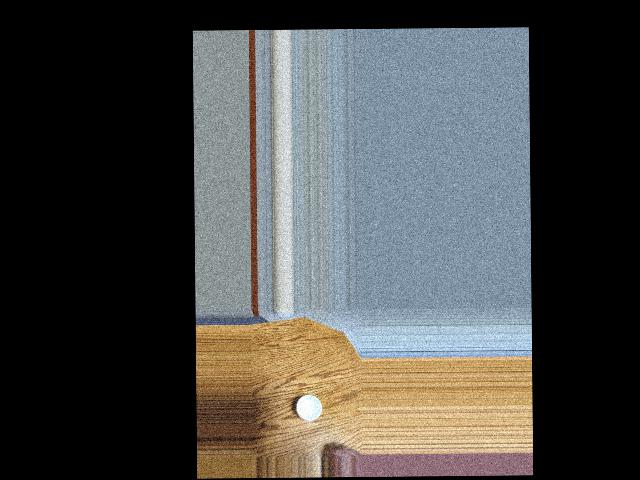cotage: (297, 392, 326, 426)
